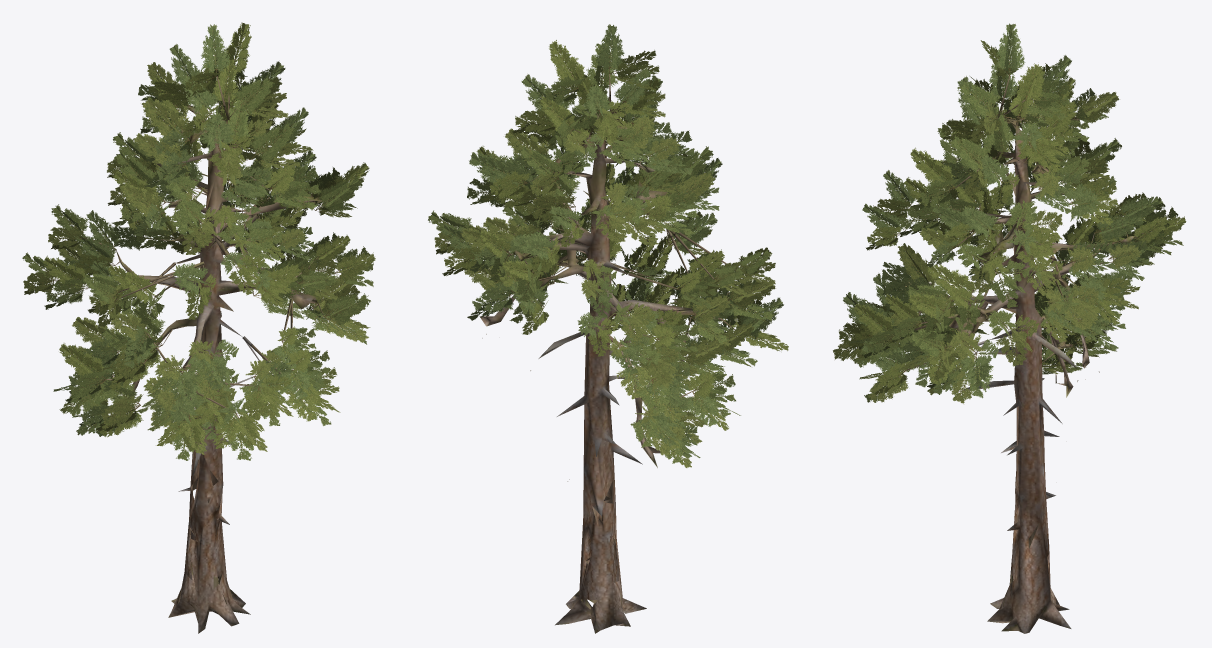
The model's file is solitary-pine-mid.glb.
3 views of the same model, side by side, from view 1: azimuth 30°, elevation 25°; view 2: azimuth 150°, elevation 25°; view 3: azimuth 270°, elevation 25° (orthographic).
Visible parts, largest first — view 1: Pine mid master-oriented needle cards, Pine mid source wood and connected twigs; view 2: Pine mid master-oriented needle cards, Pine mid source wood and connected twigs; view 3: Pine mid master-oriented needle cards, Pine mid source wood and connected twigs.
Boxes of the visible parts, left/top/right/bottom form: Pine mid master-oriented needle cards: left=22, top=22, right=375, bottom=460; Pine mid source wood and connected twigs: left=59, top=76, right=328, bottom=633; Pine mid master-oriented needle cards: left=428, top=24, right=788, bottom=467; Pine mid source wood and connected twigs: left=479, top=74, right=735, bottom=633; Pine mid master-oriented needle cards: left=833, top=23, right=1186, bottom=403; Pine mid source wood and connected twigs: left=904, top=76, right=1143, bottom=633.
Bounding box in the file's own units: 1.06 × 1.92 × 1.09.
Materials: 2 (2 with a texture image).
